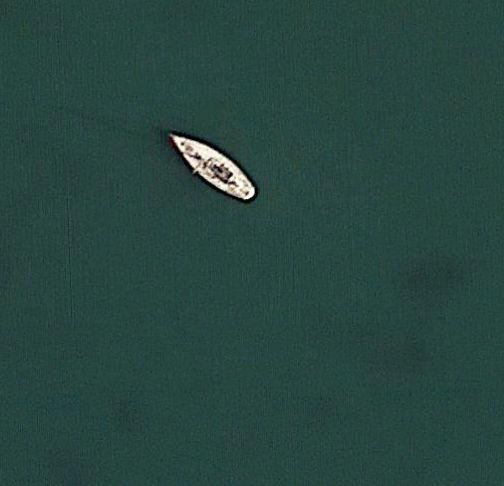Ships: (150, 116, 265, 224)
